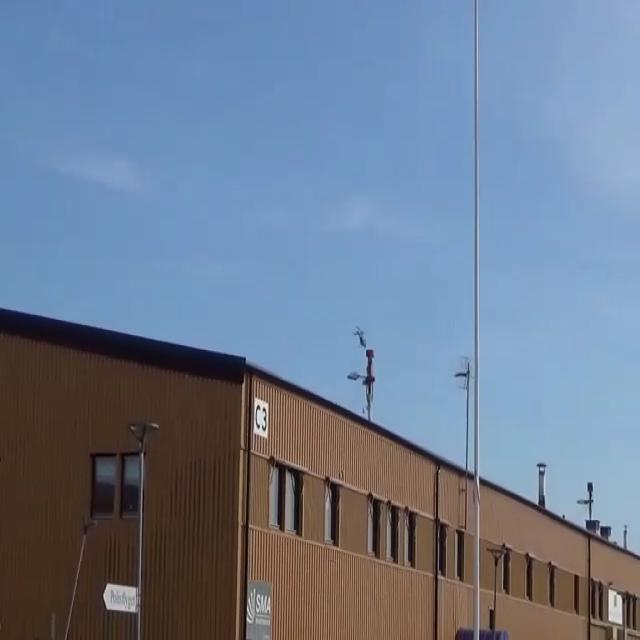Helicopter: (348, 319, 370, 349)
